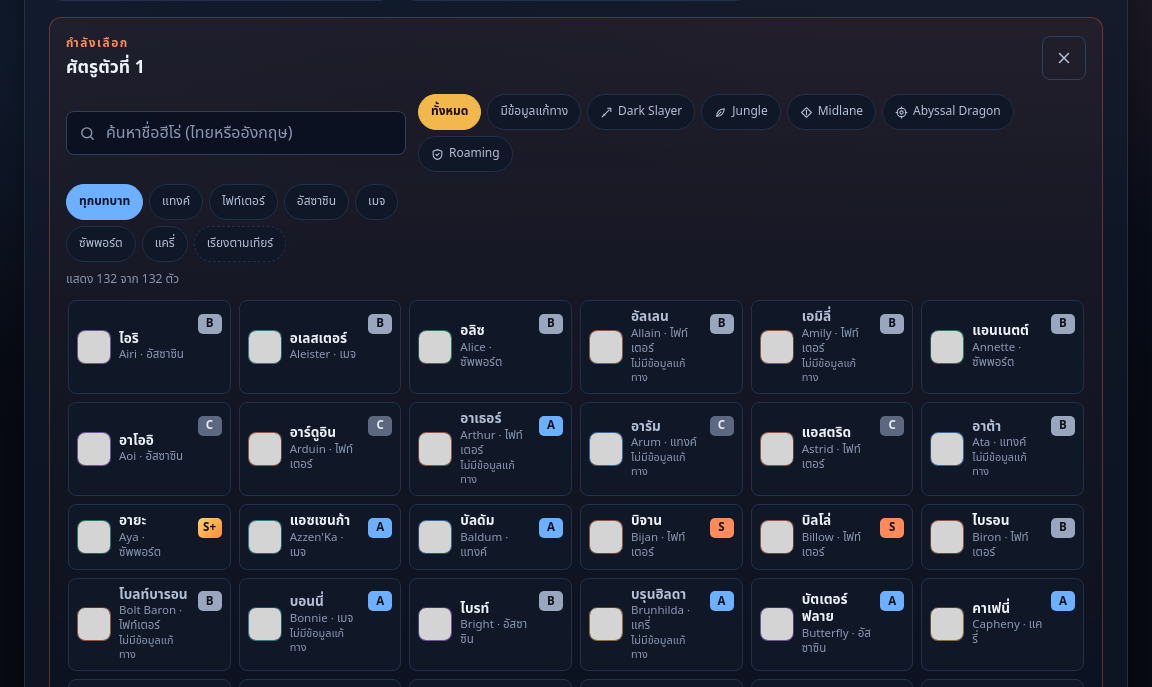
Test case: App › ตั้งเลนตาม ROV META เมื่อเอกสารหลักไม่มีข้อมูลของฮีโร่นั้น
(page scrolled)
Step 1. Click the button "อัลเลน Allain · ไฟท์เตอร์ ไม่มีข้อมูลแก้ทาง B" → point(661, 347), box [580,300,743,394]
(page scrolled)
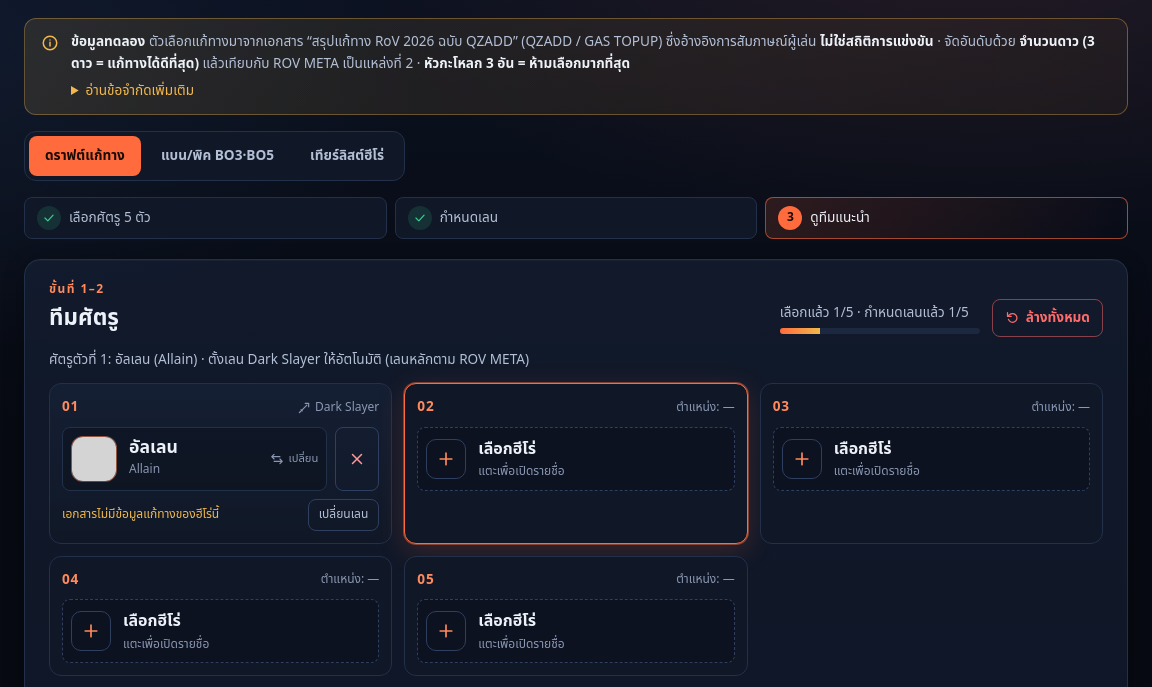
Check: the text "เลนหลักตาม ROV META" is shown, box [49,350,529,370]
